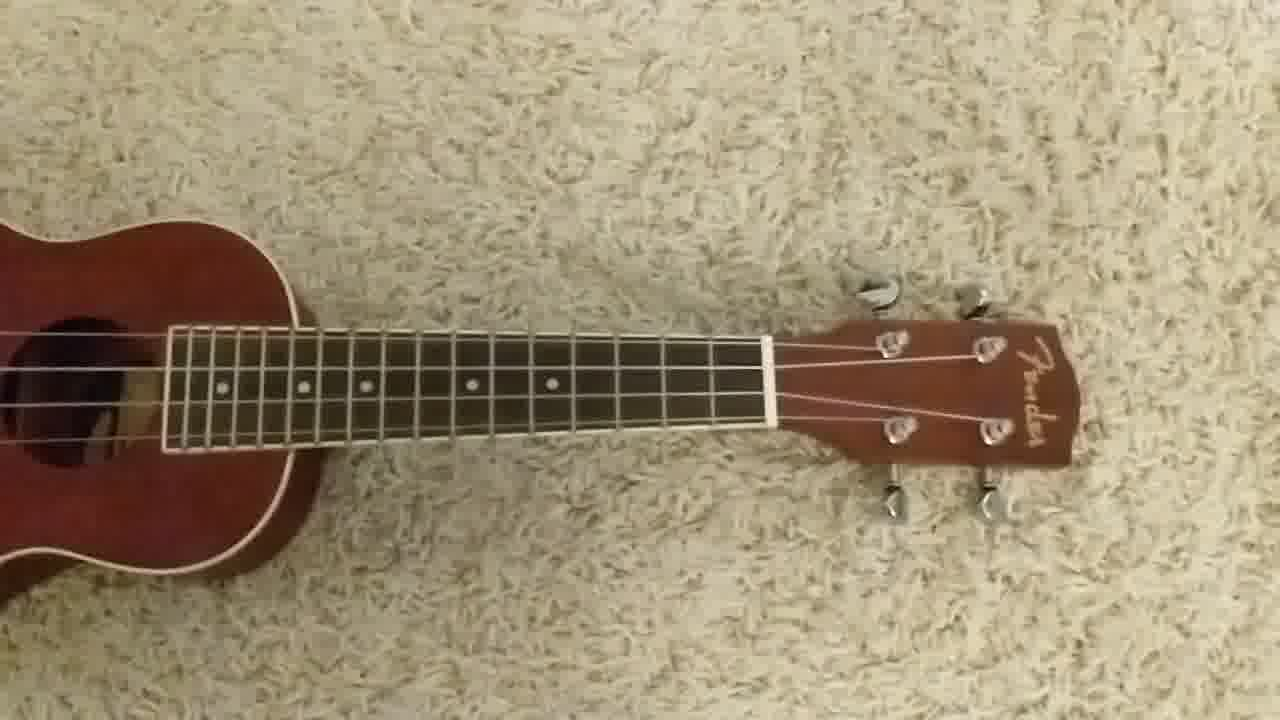Body: (1, 208, 330, 602)
Headstock: (777, 270, 1081, 521)
